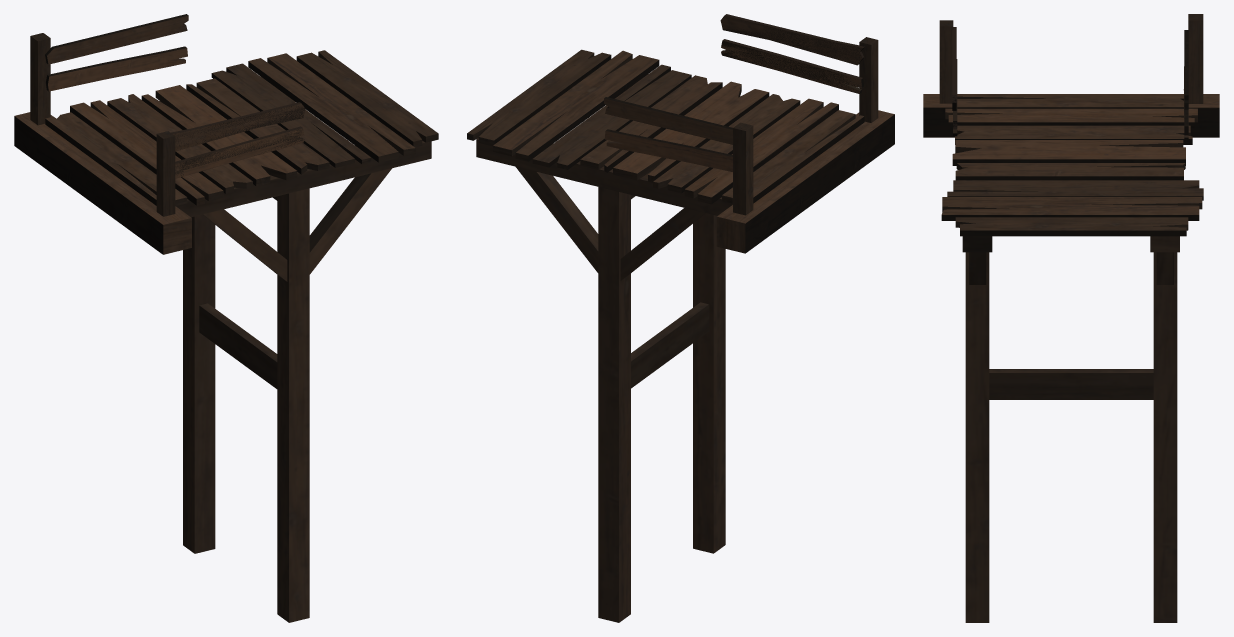
Rendered from bridge.fbx.
3 renders of one model, left to right at view 1: azimuth 30°, elevation 25°; view 2: azimuth 150°, elevation 25°; view 3: azimuth 270°, elevation 25°, orthographic.
Parts seen in each view (by area): view 1: Puente_01.005, Puente_01, Puente_01.004, Puente_01.003, Puente_01.002, Puente_01.001; view 2: Puente_01.005, Puente_01, Puente_01.004, Puente_01.003, Puente_01.002, Puente_01.001; view 3: Puente_01, Puente_01.005, Puente_01.004, Puente_01.003, Puente_01.001.
Part boxes in pixels (x1=…): Puente_01.005: x1=159, y1=77, x2=431, y2=622; Puente_01: x1=45, y1=50, x2=438, y2=205; Puente_01.004: x1=14, y1=33, x2=191, y2=254; Puente_01.003: x1=45, y1=14, x2=188, y2=91; Puente_01.002: x1=173, y1=103, x2=305, y2=178; Puente_01.001: x1=171, y1=102, x2=304, y2=176; Puente_01.005: x1=476, y1=74, x2=732, y2=622; Puente_01: x1=467, y1=49, x2=864, y2=204; Puente_01.004: x1=716, y1=37, x2=894, y2=253; Puente_01.003: x1=604, y1=97, x2=732, y2=171; Puente_01.002: x1=720, y1=15, x2=864, y2=93; Puente_01.001: x1=721, y1=14, x2=864, y2=93; Puente_01: x1=941, y1=94, x2=1203, y2=236; Puente_01.005: x1=962, y1=236, x2=1179, y2=622; Puente_01.004: x1=923, y1=14, x2=1219, y2=137; Puente_01.003: x1=1183, y1=30, x2=1188, y2=140; Puente_01.001: x1=952, y1=27, x2=957, y2=133.
Size of the model in its own units: 4.1 by 7.12 by 3.6.
